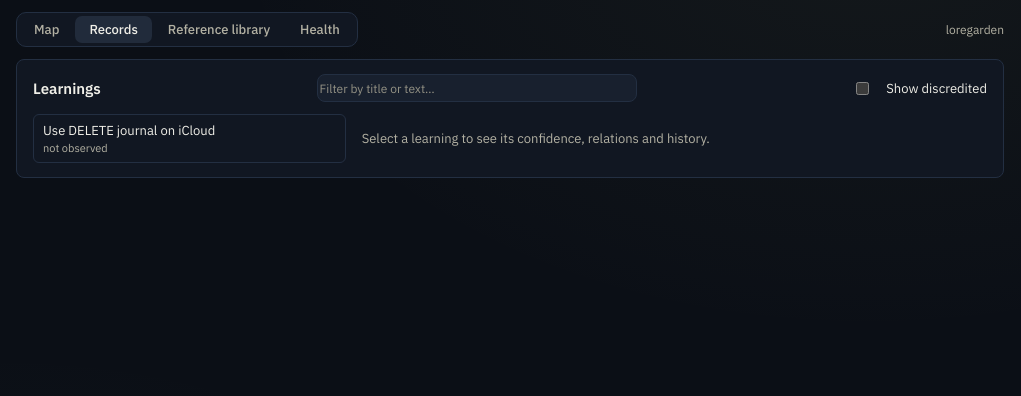
Test: says a learning with no observed runs is not observed yet
Step 1. Click the button "Use DELETE journal on iCloud not observed" → (189, 138), box [33,114,346,163]
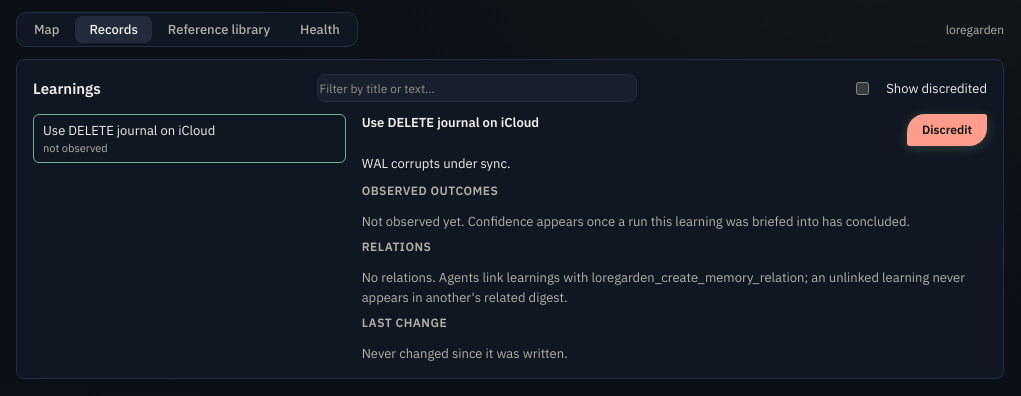
Expected: the text "Not observed yet" is shown, [362,212,910,230]
